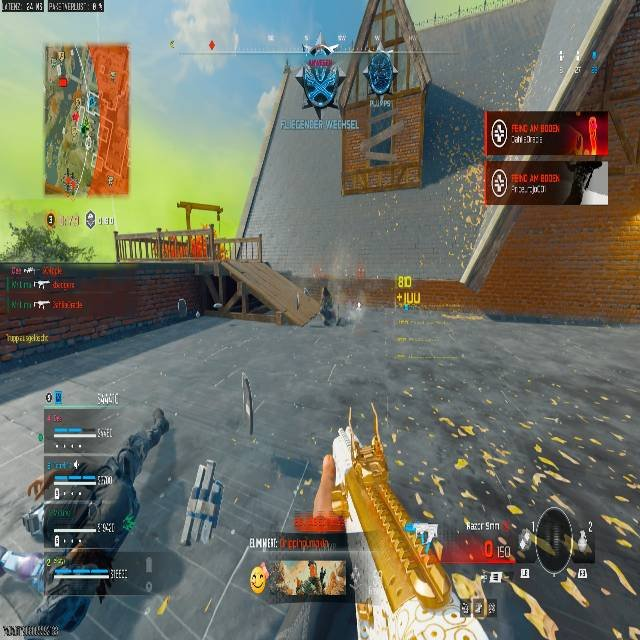head: (322, 287, 329, 295)
player: (299, 38, 340, 113), (319, 287, 336, 326), (62, 172, 78, 199)
